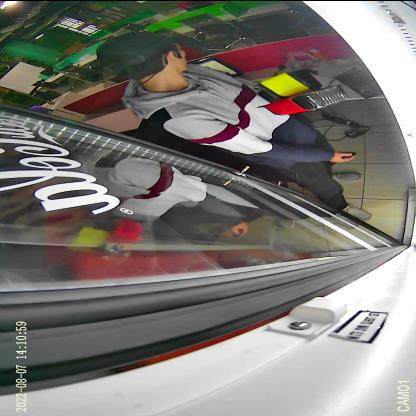red: (256, 82, 348, 114)
yellow: (253, 67, 323, 99)
